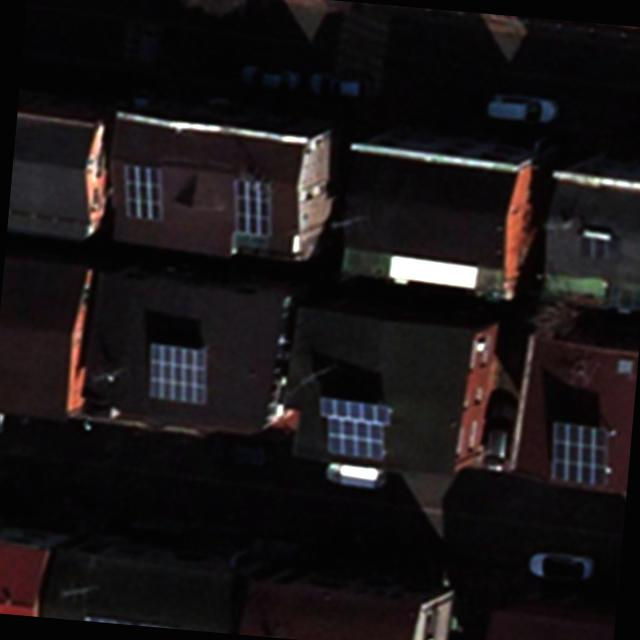solar: (314, 392, 396, 462), (142, 340, 212, 408), (544, 418, 611, 488), (225, 174, 280, 240), (117, 161, 170, 223)
